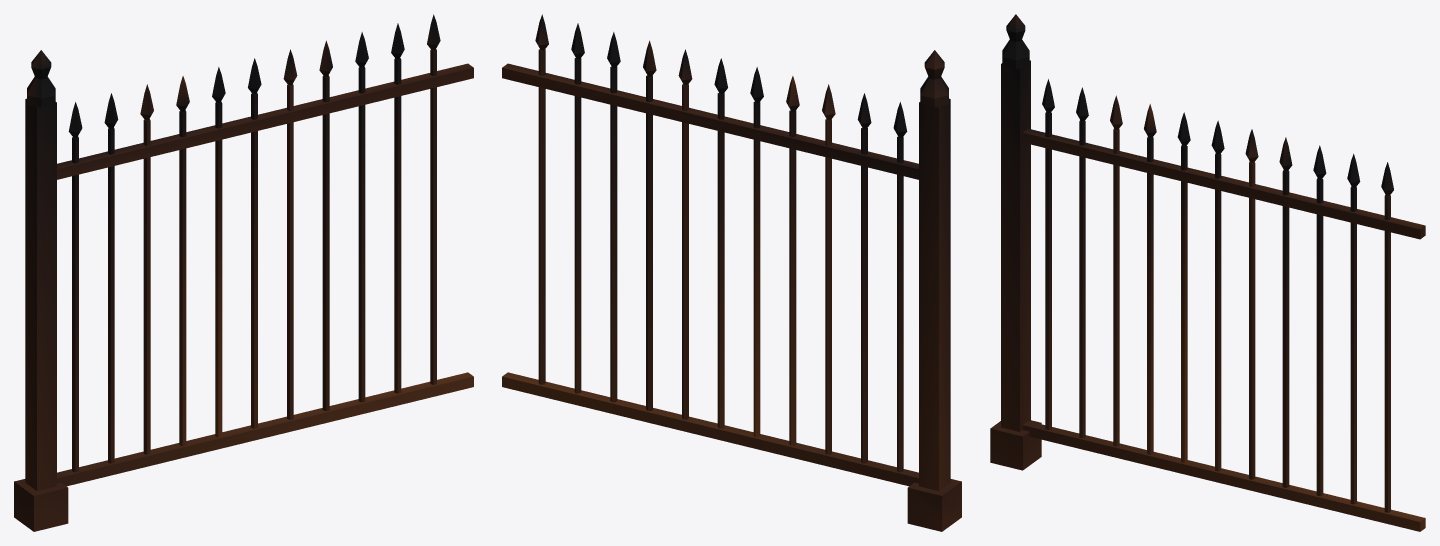
Rendered from iron-railing.glb.
3 views of the same model, side by side, from view 1: azimuth 30°, elevation 25°; view 2: azimuth 150°, elevation 25°; view 3: azimuth 330°, elevation 25° (orthographic). The views are drawn at different scales.
Parts seen in each view (by area): view 1: iron-railing-iron; view 2: iron-railing-iron; view 3: iron-railing-iron.
Part boxes in pixels (x1,y1,x2,y2): iron-railing-iron: (14, 14, 473, 531); iron-railing-iron: (502, 14, 961, 531); iron-railing-iron: (990, 14, 1425, 531).
Bounding box in the file's own units: 1.56 × 1.57 × 0.12.
